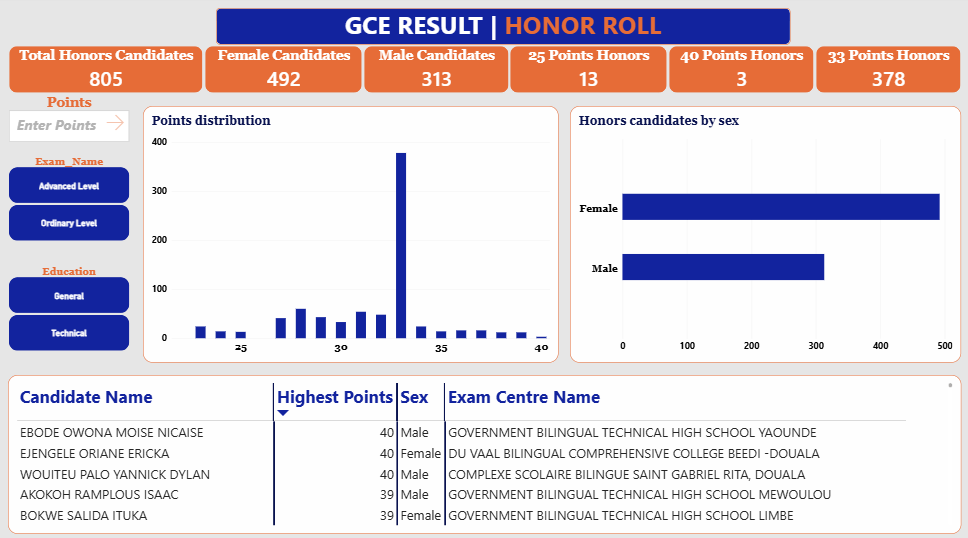

The page's visual inventory and layout, read from the dashboard file:
{"tool":"powerbi","page":{"name":"Honor Roll","canvas":[1920,1080],"ordinal":2},"visuals":[{"type":"shape","box":[432,24,1128,72],"z":1000},{"type":"textbox","box":[432,24,1128,72],"z":2000},{"type":"cardVisual","fields":{"Data":["Honor Roll candidates.Total Honors Candidates"]},"box":[24,96,384,96],"z":3000},{"type":"cardVisual","fields":{"Data":["Honor Roll candidates.Female Candidates"]},"box":[408,96,312,96],"z":4000},{"type":"cardVisual","fields":{"Data":["Honor Roll candidates.Male Candidates"]},"box":[720,96,288,96],"z":5000},{"type":"columnChart","title":"Points distribution","fields":{"Category":["Honor Roll candidates.Points"],"Y":["CountNonNull(Honor Roll candidates.CIN)"]},"box":[288,216,816,504],"z":6000},{"type":"barChart","title":"Honors candidates by sex","fields":{"Category":["Honor Roll candidates.Sex"],"Y":["Honor Roll candidates.Total Honors Candidates"]},"box":[1128,216,768,504],"z":7000},{"type":"tableEx","fields":{"Values":["Honor Roll candidates.Candidate Name","Honor Roll candidates.Highest Points","Honor Roll candidates.Sex","Honor Roll candidates.Exam Centre Name"]},"box":[24,744,1872,312],"z":8000},{"type":"advancedSlicerVisual","fields":{"Values":["Honor Roll candidates.Education"]},"box":[24,528,240,192],"z":9000},{"type":"textSlicer","fields":{"Values":["Honor Roll candidates.Points"]},"box":[24,192,240,96],"z":10000},{"type":"advancedSlicerVisual","fields":{"Values":["Honor Roll candidates.Exam_Name"]},"box":[24,312,240,192],"z":11000},{"type":"cardVisual","fields":{"Data":["Honor Roll candidates.25 Points Honors"]},"box":[1008,96,312,96],"z":12000},{"type":"cardVisual","fields":{"Data":["Honor Roll candidates.40 Points Honors"]},"box":[1320,96,288,96],"z":13000},{"type":"cardVisual","fields":{"Data":["Honor Roll candidates.33 Points Honors"]},"box":[1608,96,288,96],"z":14000}]}

Visuals, with their boxes in screenshot pixels (x1, y1, x2, y2), scaled from the page's 1920x1080 canvas onto the 968x538 screenshot:
shape: (218,12,786,48)
textbox: (218,12,786,48)
cardVisual - Honor Roll candidates.Total Honors Candidates: (12,48,206,96)
cardVisual - Honor Roll candidates.Female Candidates: (206,48,363,96)
cardVisual - Honor Roll candidates.Male Candidates: (363,48,508,96)
"Points distribution" columnChart: (145,108,557,359)
"Honors candidates by sex" barChart: (569,108,956,359)
tableEx - Honor Roll candidates.Candidate Name x Honor Roll candidates.Highest Points: (12,371,956,526)
advancedSlicerVisual - Honor Roll candidates.Education: (12,263,133,359)
textSlicer - Honor Roll candidates.Points: (12,96,133,143)
advancedSlicerVisual - Honor Roll candidates.Exam_Name: (12,155,133,251)
cardVisual - Honor Roll candidates.25 Points Honors: (508,48,666,96)
cardVisual - Honor Roll candidates.40 Points Honors: (666,48,811,96)
cardVisual - Honor Roll candidates.33 Points Honors: (811,48,956,96)
